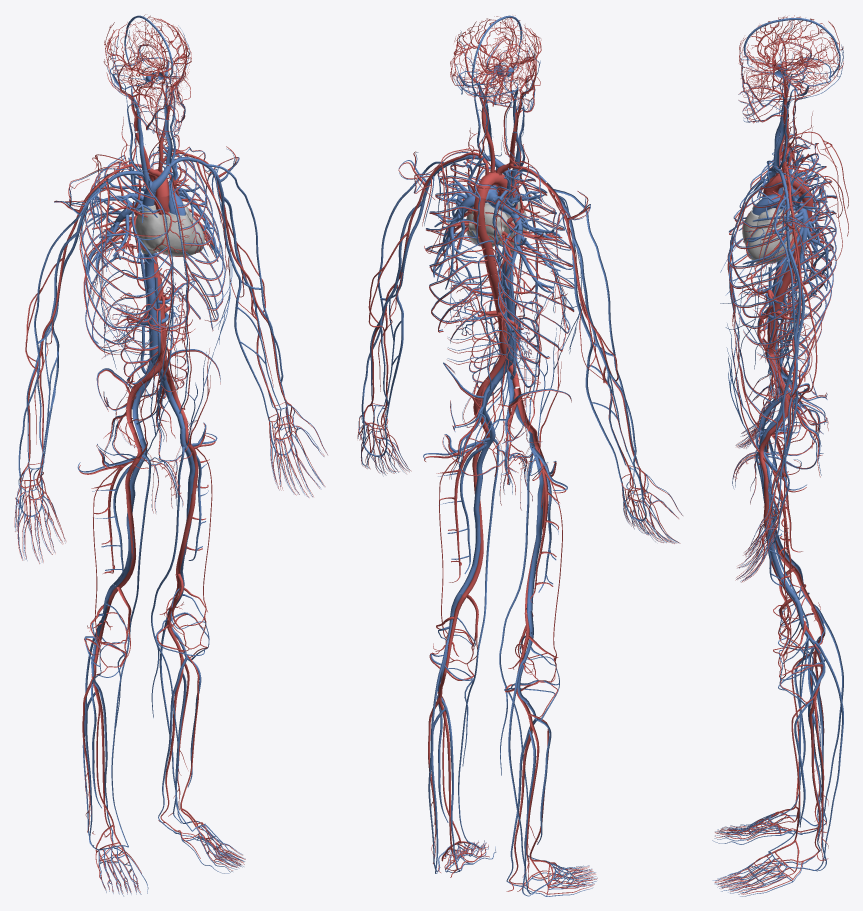
Rendered from cardio.glb.
3 views of the same model, side by side, from view 1: azimuth 30°, elevation 25°; view 2: azimuth 150°, elevation 25°; view 3: azimuth 270°, elevation 25° (orthographic). The views are drawn at different scales.
Parts seen in each view (by area): view 1: 2560, 2430, 1453, 2548, 2565, 1043, 1044, 2429, 850, 377, 849, 856 (+2 smaller); view 2: 2560, 2430, 1453, 2429, 1043, 855, 1044, 856, 377, 3076, 298, 297 (+2 smaller); view 3: 1453, 2429, 376, 2560, 1457, 2668, 1044, 849, 22, 1043, 2669, 2430 (+24 smaller).
Boxes of the visible parts, x1,y1,x2,y2 form: 2560: [81, 155, 172, 351]; 2430: [79, 163, 169, 354]; 1453: [144, 147, 225, 329]; 2548: [135, 203, 170, 254]; 2565: [154, 211, 197, 256]; 1043: [151, 446, 192, 831]; 1044: [111, 454, 151, 846]; 2429: [149, 153, 225, 331]; 850: [117, 432, 142, 589]; 377: [18, 188, 101, 484]; 849: [175, 419, 198, 575]; 856: [113, 438, 147, 587]; 2560: [492, 170, 574, 357]; 2430: [478, 187, 574, 358]; 1453: [425, 156, 502, 330]; 2429: [425, 177, 501, 332]; 1043: [458, 439, 499, 845]; 855: [459, 423, 495, 594]; 1044: [499, 447, 538, 859]; 856: [527, 433, 543, 611]; 377: [553, 188, 643, 496]; 3076: [473, 197, 496, 275]; 298: [572, 238, 622, 483]; 297: [384, 202, 424, 426]; 1453: [729, 163, 836, 358]; 2429: [729, 175, 836, 359]; 376: [774, 197, 796, 518]; 2560: [729, 144, 836, 304]; 1457: [748, 224, 794, 263]; 2668: [803, 640, 843, 870]; 1044: [755, 430, 820, 820]; 849: [759, 431, 793, 601]; 22: [765, 266, 793, 354]; 1043: [755, 452, 820, 851]; 2669: [803, 604, 843, 826]; 2430: [729, 153, 836, 308].
Size of the model in its own units: 0.6639 by 1.7 by 0.2489.
